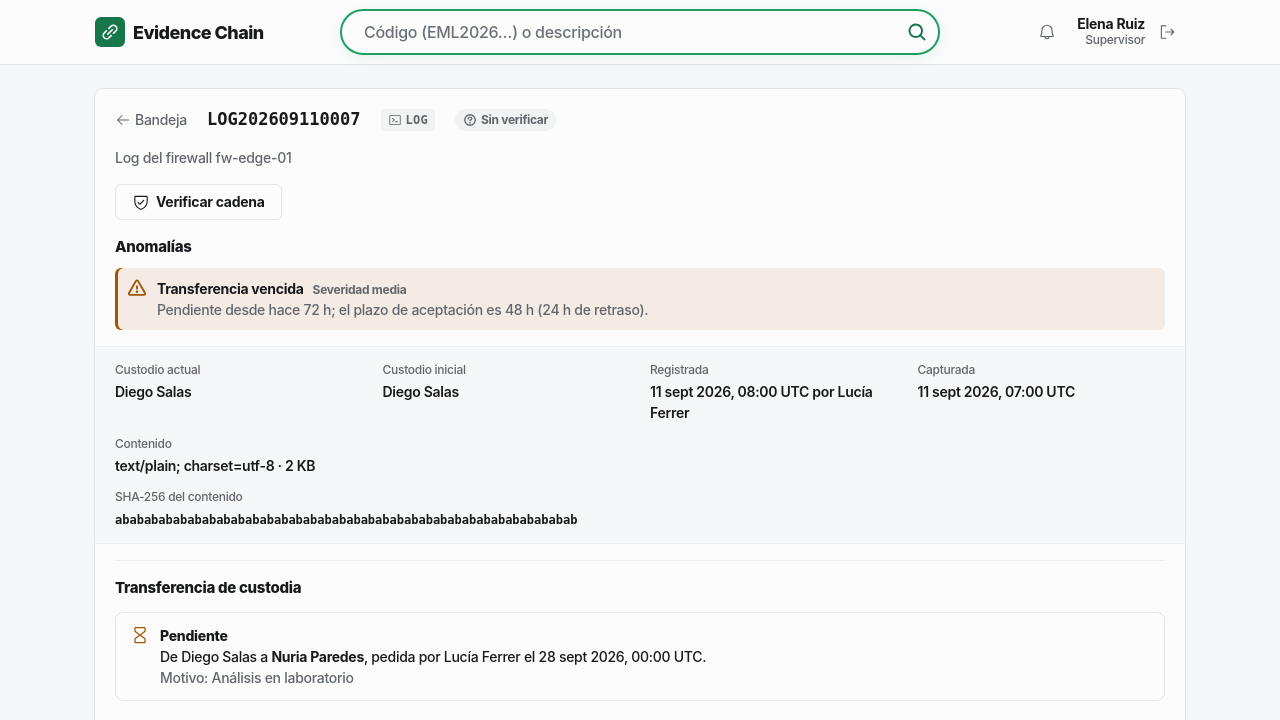
Test: EvidencePage › verifies on demand and says the chain is intact
Click the button "Verificar cadena". click: click(198, 202)
box: left=115, top=184, right=282, bottom=220
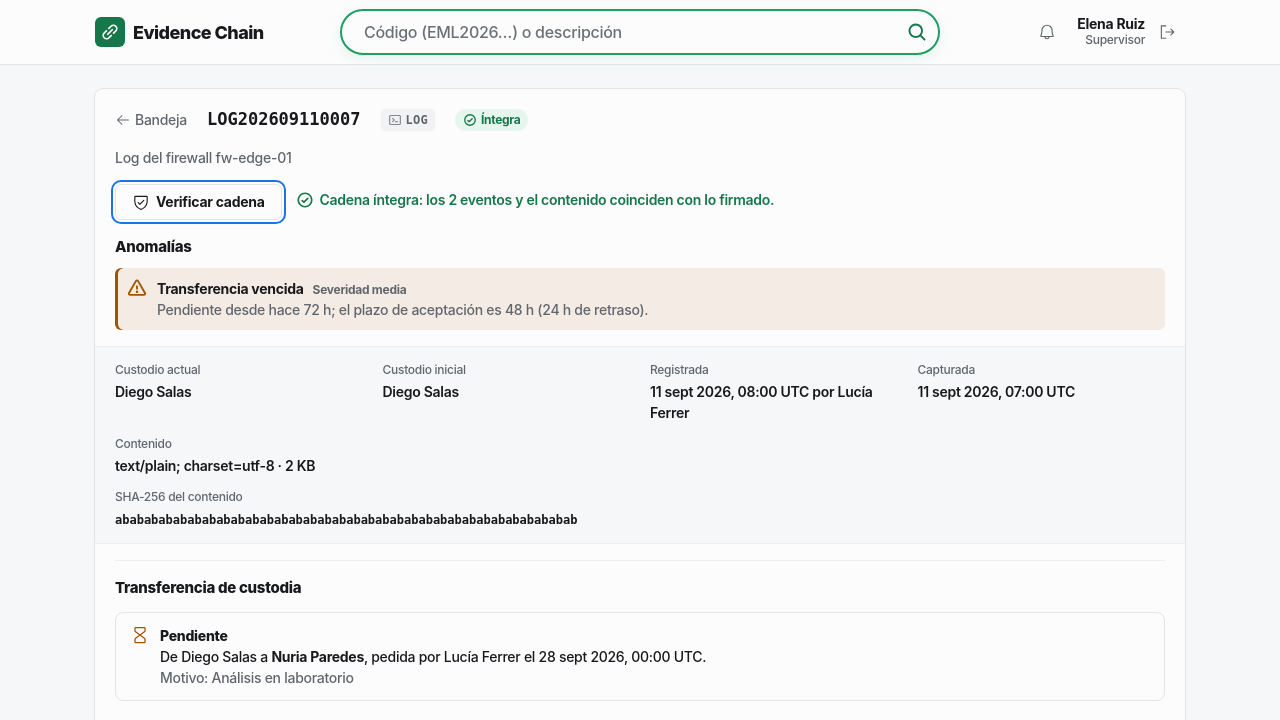
Result: the message reads "Cadena íntegra: los 2 eventos y el contenido coinciden con lo firmado." at left=296, top=189, right=774, bottom=214
Result: the text "Íntegra" is shown at left=455, top=109, right=528, bottom=131
